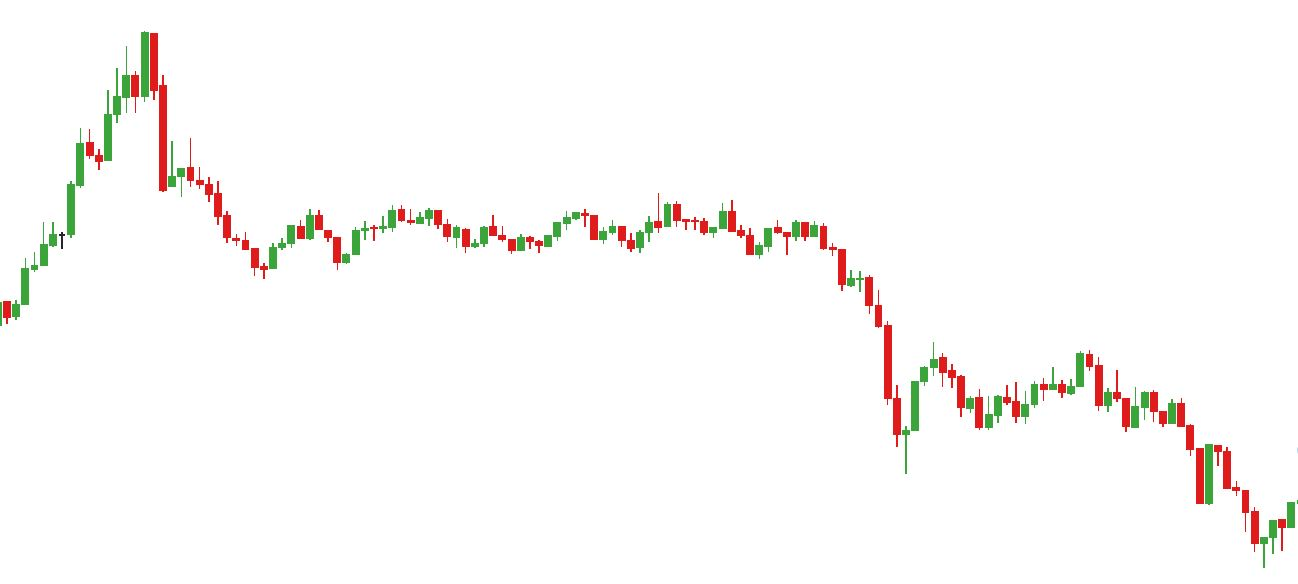sell: (582, 193, 663, 235)
